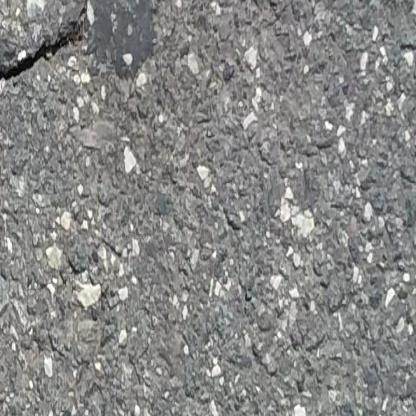Cracks: (0, 8, 88, 103)
